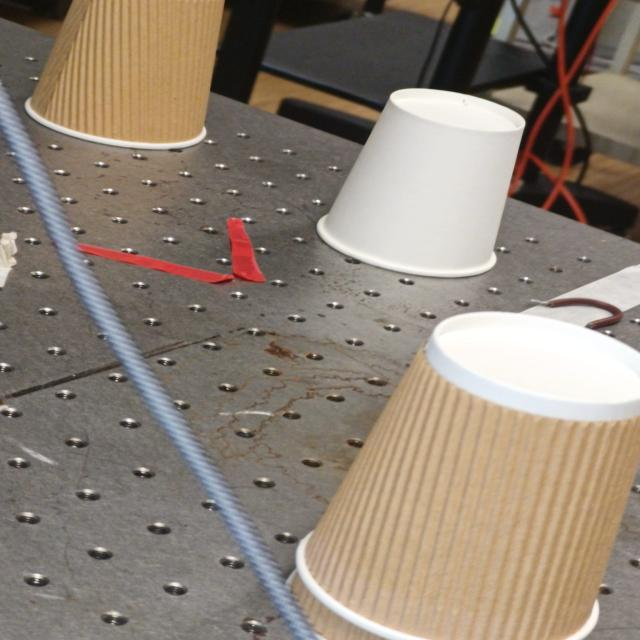Browncup: (295, 310, 640, 640), (21, 0, 228, 149), (292, 579, 397, 639)
Whitecup: (312, 87, 528, 280)
